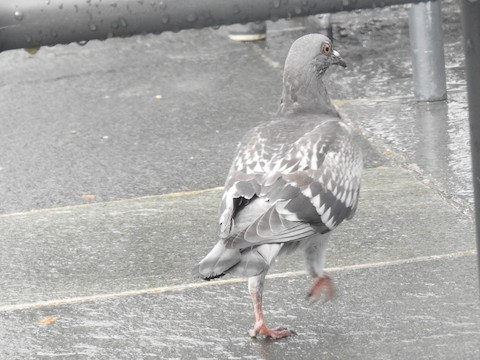pigeon: (194, 30, 369, 343)
